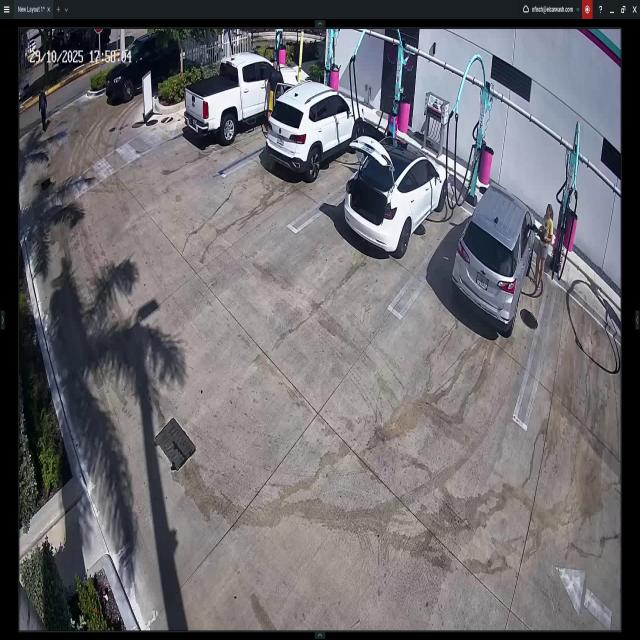Car: (346, 125, 447, 258), (461, 183, 530, 329), (193, 60, 298, 152), (268, 84, 363, 180), (106, 34, 180, 102)
